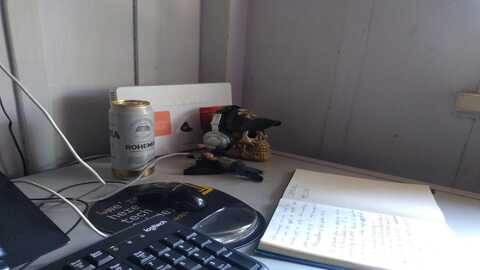bohemia: (104, 96, 158, 187)
